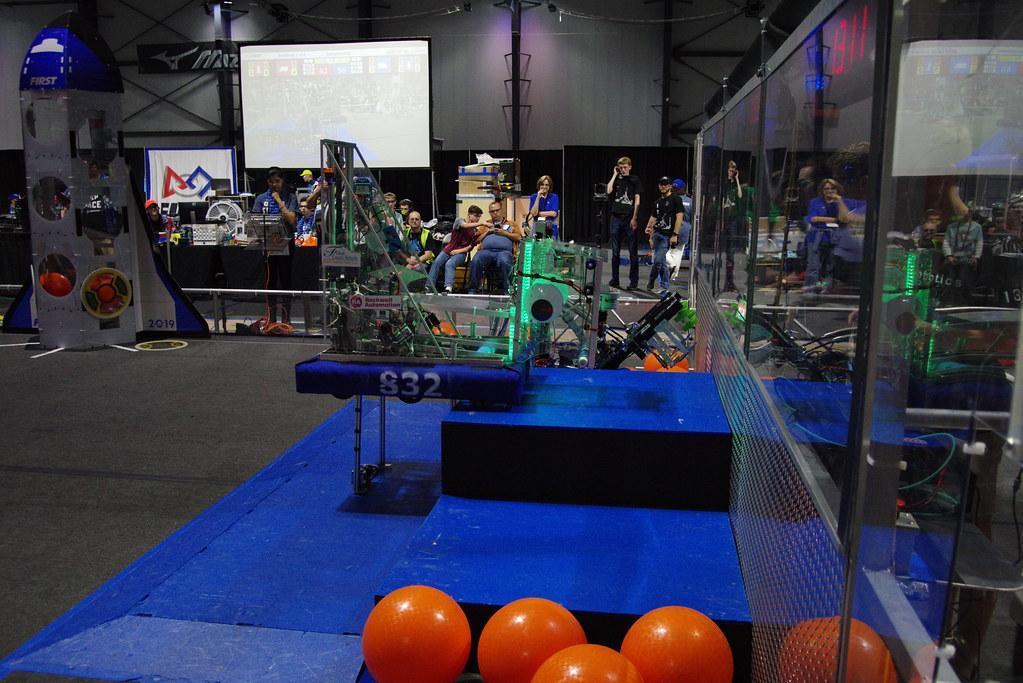robot: (282, 133, 542, 507), (483, 204, 699, 393)
